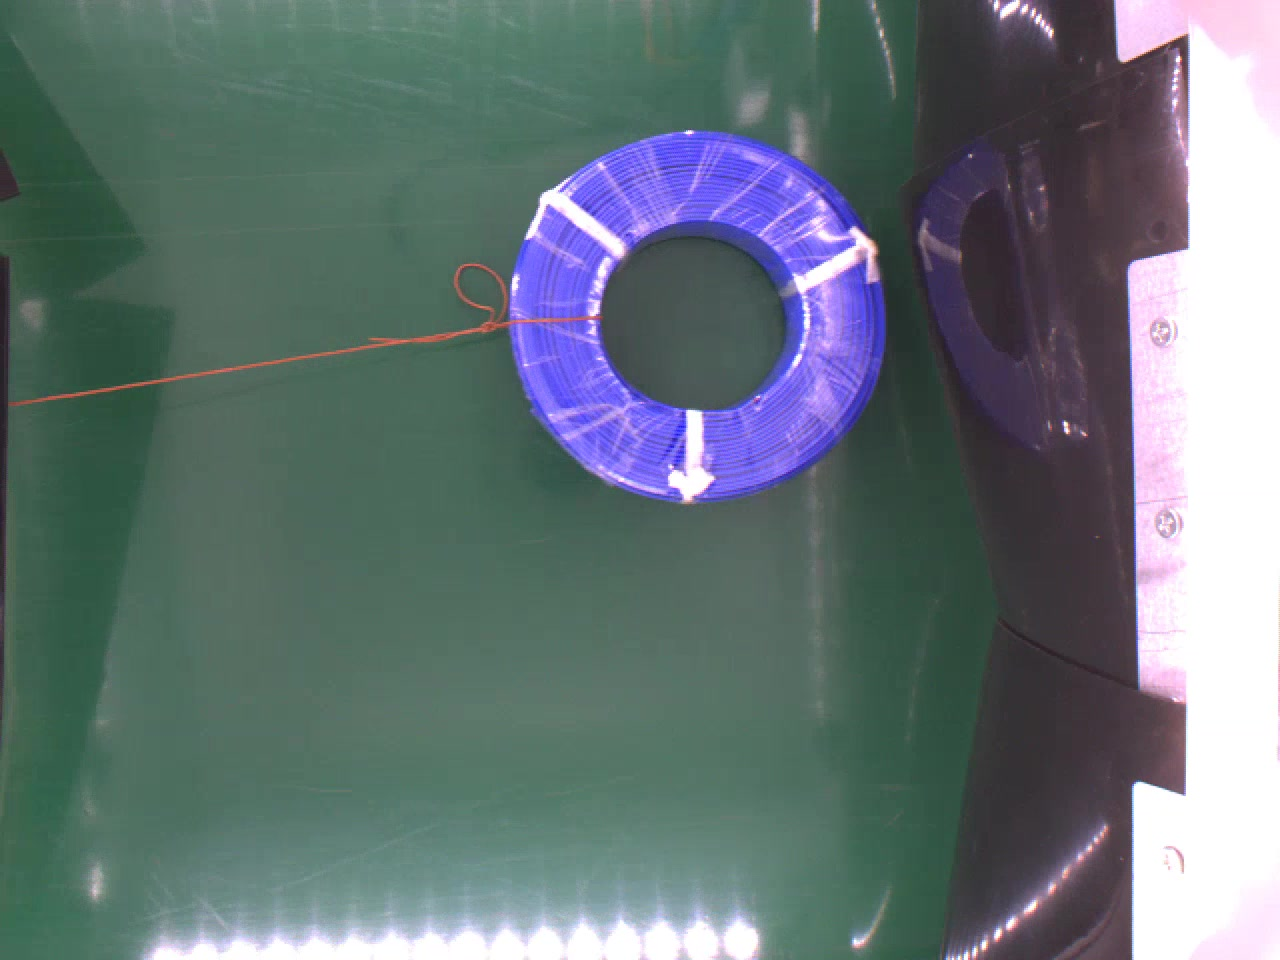blue: (506, 127, 890, 496)
